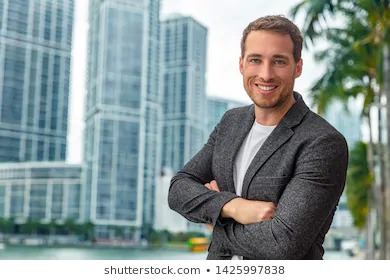F_M_suit jacket: (161, 89, 351, 260)
